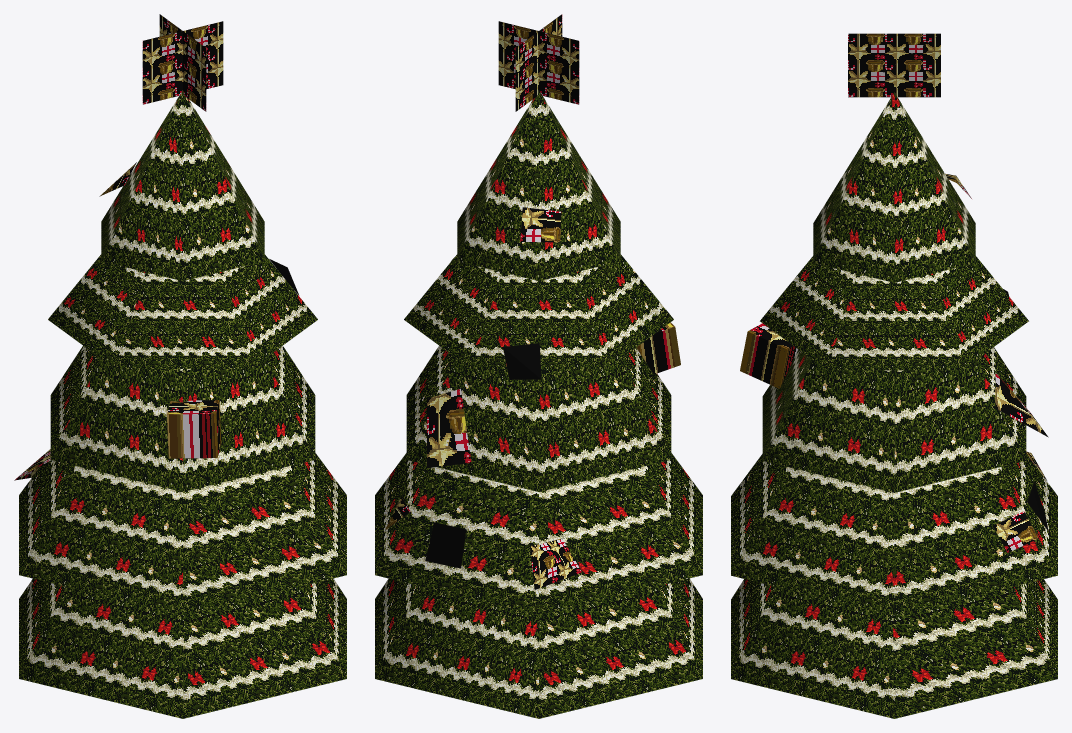
The model's file is 3258IMIG02_05.gltf.
3 renders of one model, left to right at view 1: azimuth 30°, elevation 25°; view 2: azimuth 150°, elevation 25°; view 3: azimuth 270°, elevation 25°, orthographic.
Parts seen in each view (by area): view 1: 3258IMIG02_05; view 2: 3258IMIG02_05; view 3: 3258IMIG02_05.
Boxes of the visible parts, <box> form: 3258IMIG02_05: <box>14,14,346,718</box>; 3258IMIG02_05: <box>375,14,702,718</box>; 3258IMIG02_05: <box>731,33,1057,718</box>.
Bounding box in the file's own units: 0.8838 × 1.57 × 0.7656.
4 materials, 4 textured.
